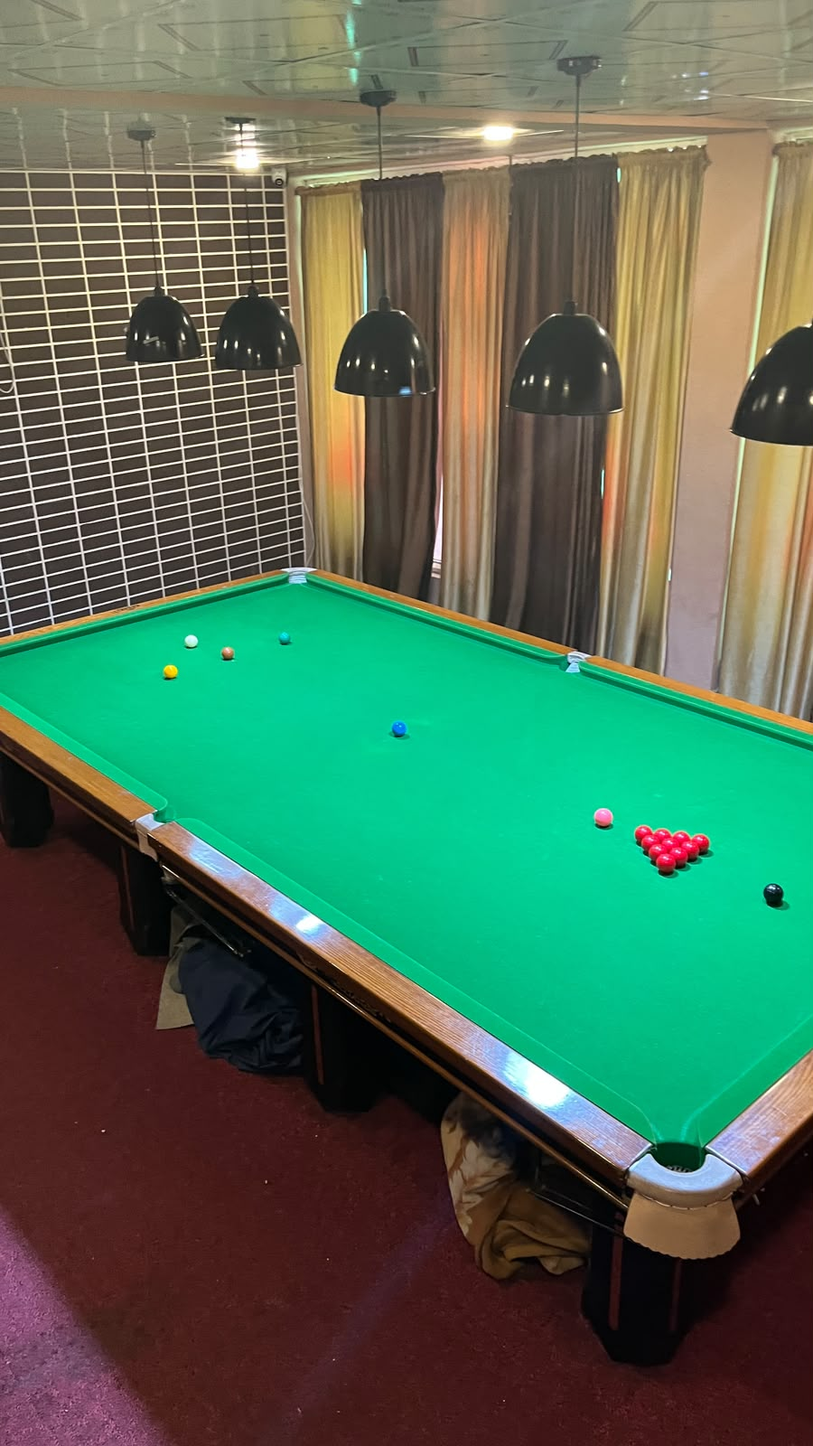Snooker: (623, 823, 714, 879)
